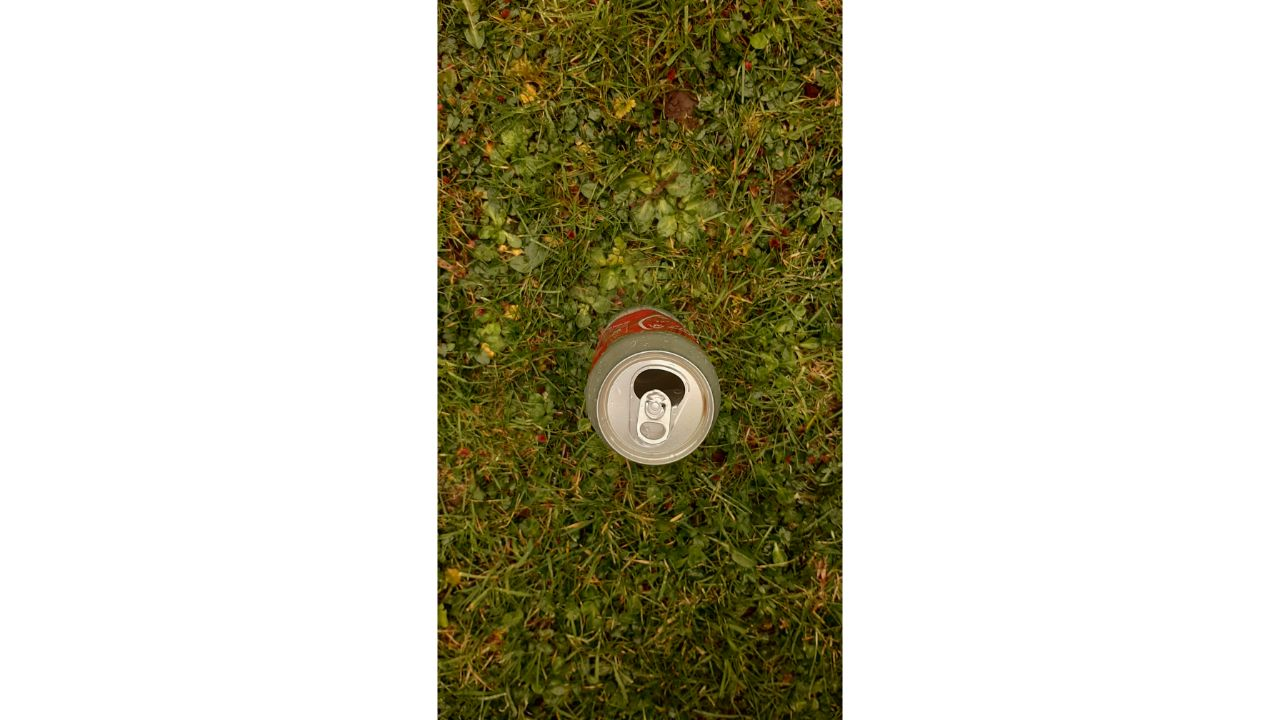Can: (578, 305, 720, 473)
